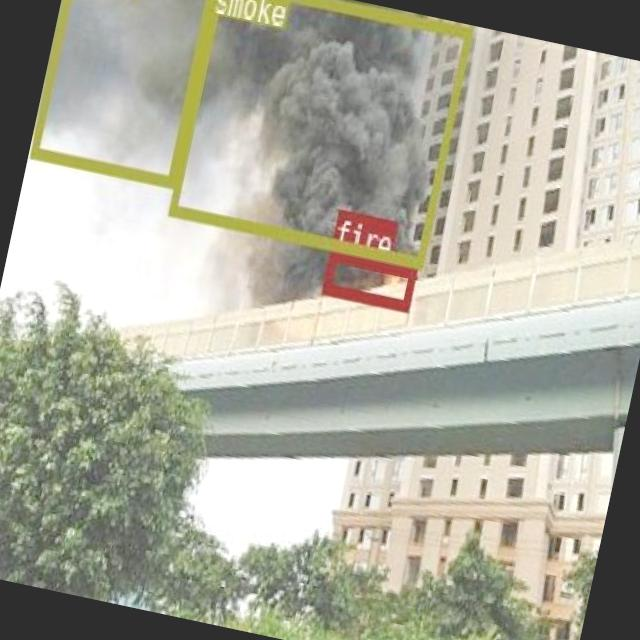fire: (321, 245, 416, 308)
smoke: (166, 0, 471, 267), (29, 0, 217, 185)
